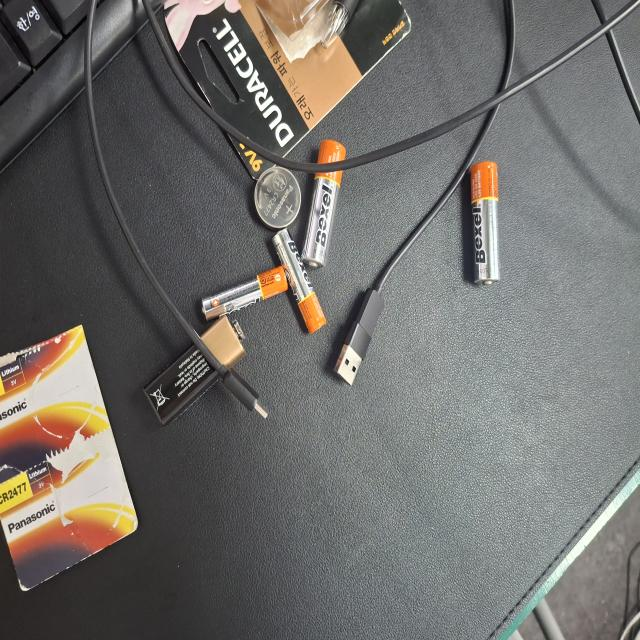9V: (236, 520, 315, 640)
AA: (105, 392, 201, 451), (119, 185, 217, 231)
AAA: (170, 416, 251, 490), (200, 472, 240, 584)
COIN: (124, 452, 173, 515)
